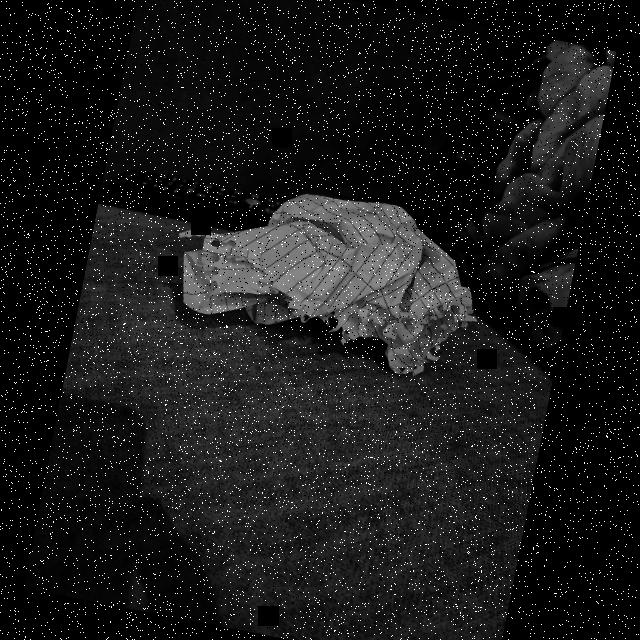scrap_paper: (171, 172, 492, 373)
